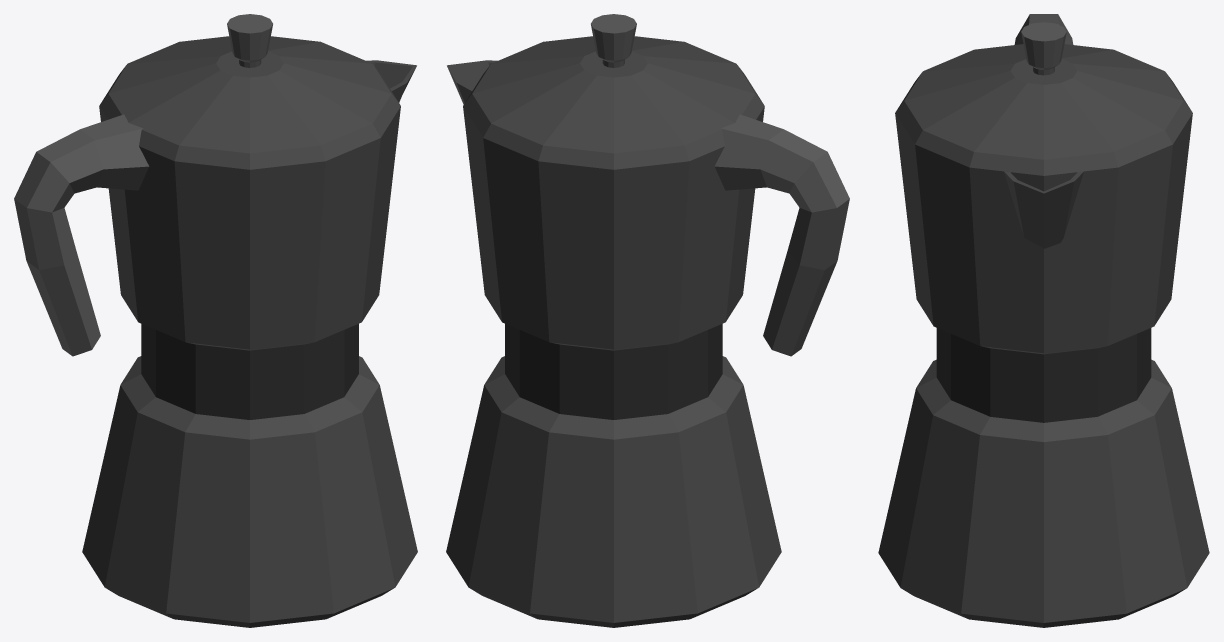
File: Cezve_02.fbx
3 renders of one model, left to right at view 1: azimuth 30°, elevation 25°; view 2: azimuth 150°, elevation 25°; view 3: azimuth 270°, elevation 25°, orthographic.
Visible parts, largest first — view 1: Cezve_02; view 2: Cezve_02; view 3: Cezve_02.
Boxes of the visible parts, x1,y1,x2,y2 form: Cezve_02: (14, 14, 417, 627); Cezve_02: (446, 14, 849, 627); Cezve_02: (878, 14, 1209, 627).
Size of the model in its own units: 16.3 by 21.19 by 11.94.
